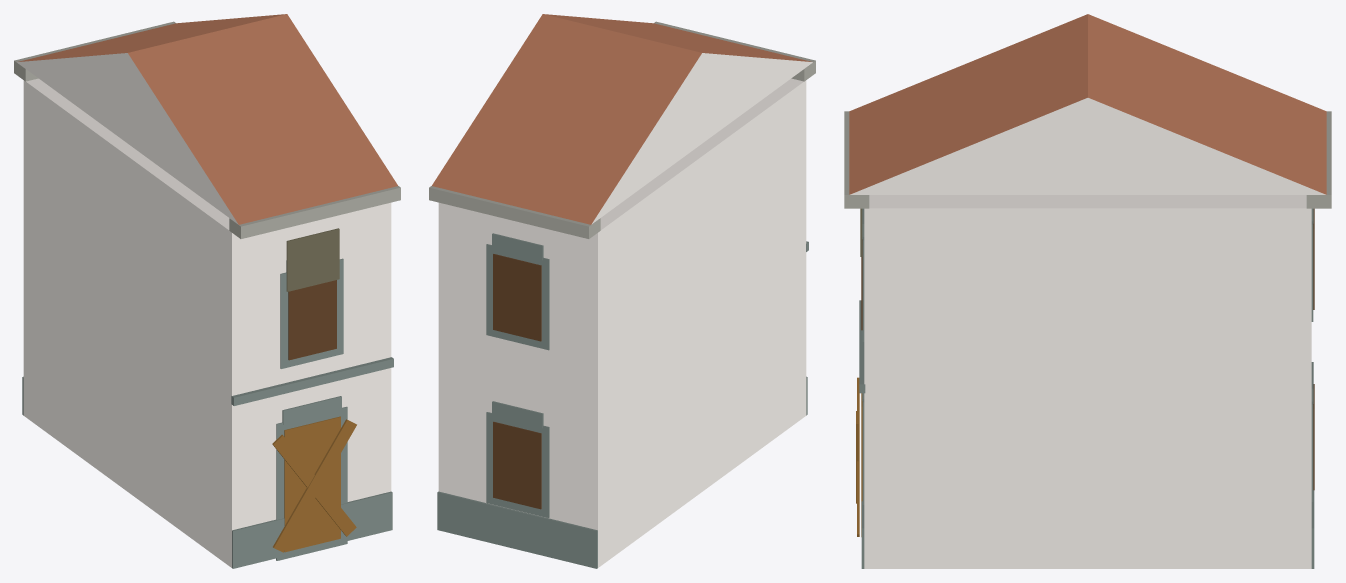
File: SM_KitCuerpo_v4_LOD0.fbx
3 views of the same model, side by side, from view 1: azimuth 30°, elevation 25°; view 2: azimuth 150°, elevation 25°; view 3: azimuth 270°, elevation 25° (orthographic). The views are drawn at different scales.
Parts seen in each view (by area): view 1: SM_bloques.kit_cuerpo_v4_LOD0; view 2: SM_bloques.kit_cuerpo_v4_LOD0; view 3: SM_bloques.kit_cuerpo_v4_LOD0.
Boxes of the visible parts, bbox=[...] form: SM_bloques.kit_cuerpo_v4_LOD0: bbox=[14, 14, 400, 568]; SM_bloques.kit_cuerpo_v4_LOD0: bbox=[429, 14, 815, 568]; SM_bloques.kit_cuerpo_v4_LOD0: bbox=[844, 14, 1331, 568].
Size of the model in its own units: 3.99 by 10.54 by 9.8.
